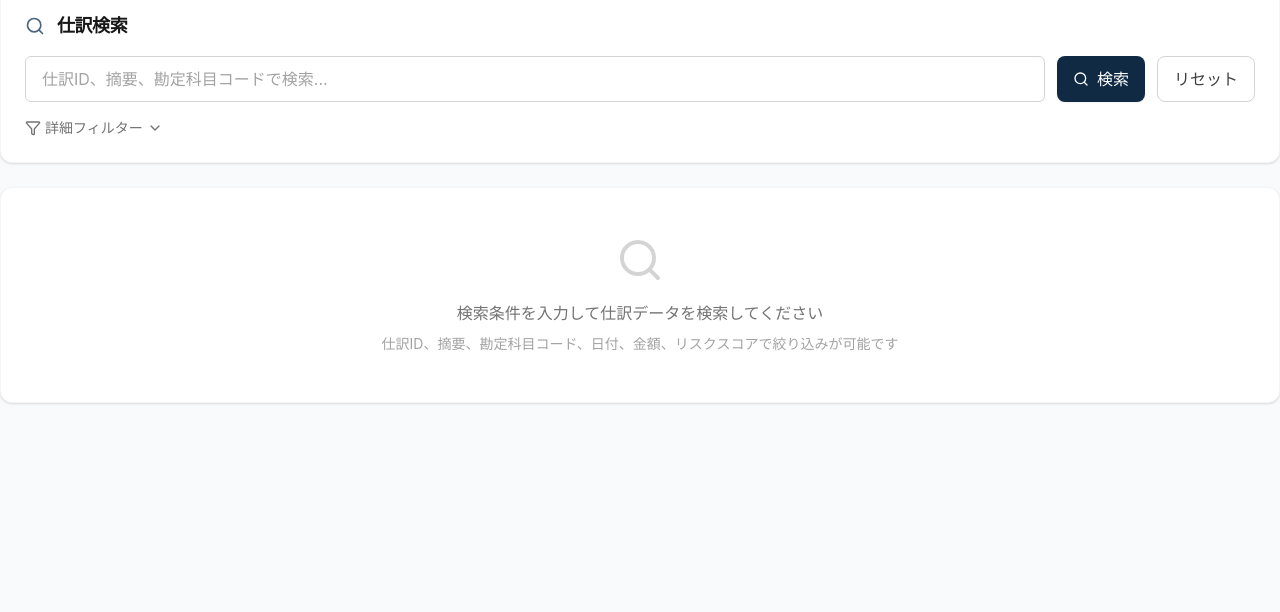
it: SearchPage › toggles advanced filters
The image size is (1280, 612).
Click the button "詳細フィルター".
click(94, 128)  # box [25, 118, 163, 138]
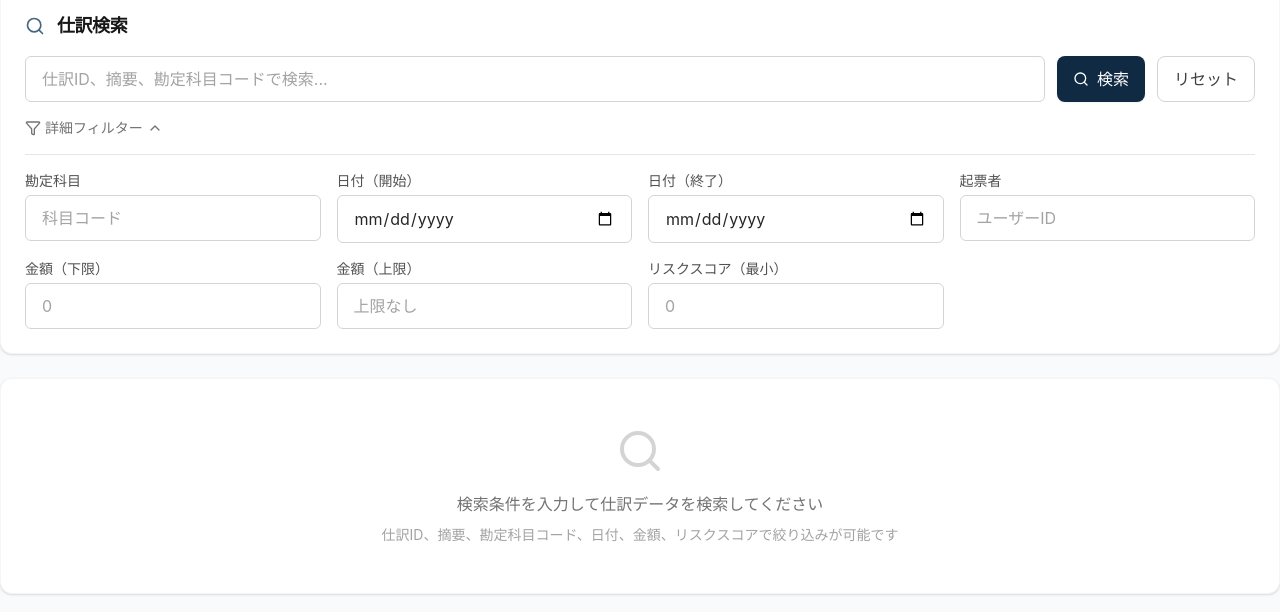
Check: the text "勘定科目" is shown, box [25, 172, 81, 189]
Check: the text "日付（開始）" is shown, box [336, 172, 420, 189]
Check: the text "日付（終了）" is shown, box [648, 172, 732, 189]
